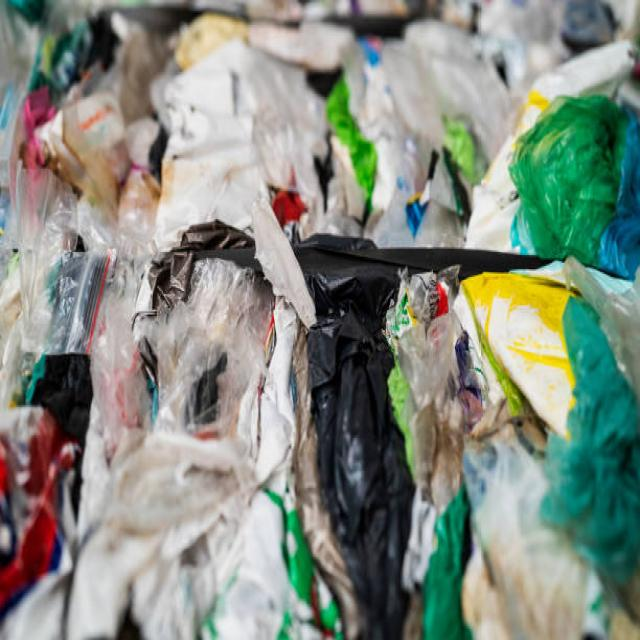plastic: (45, 70, 564, 609)
